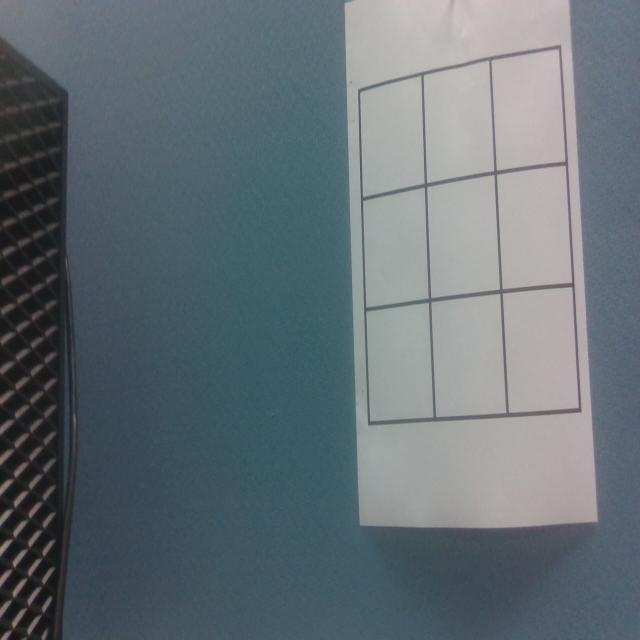null: (504, 285, 581, 417), (497, 166, 574, 294), (432, 290, 507, 419), (492, 48, 567, 172), (428, 176, 501, 303), (424, 61, 495, 189), (366, 301, 432, 426), (364, 187, 429, 309), (361, 77, 424, 201)
table: (345, 41, 583, 430)
